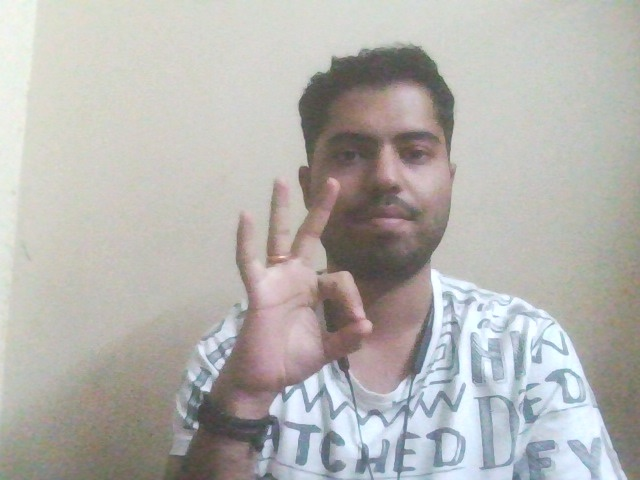Yes: (192, 168, 401, 402)
